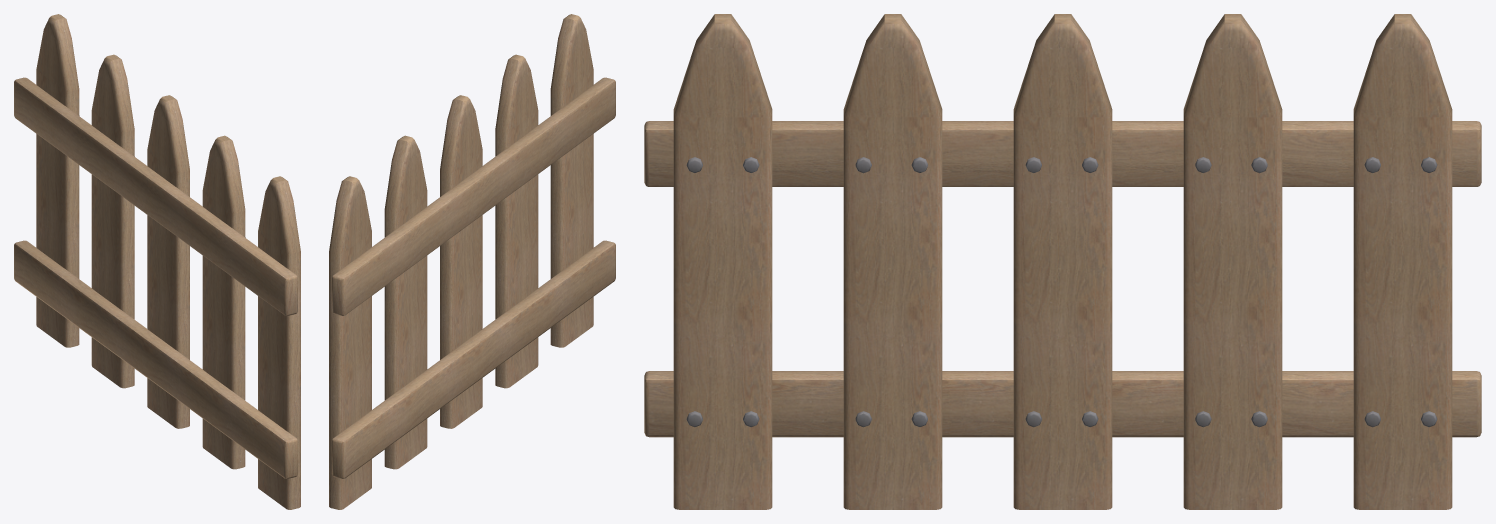
Rendered from fence.glb.
The picture shows the model from 3 angles, left to right: view 1: azimuth 30°, elevation 25°; view 2: azimuth 150°, elevation 25°; view 3: azimuth 270°, elevation 25°; orthographic projection. The views are drawn at different scales.
Visible parts, largest first — view 1: Object_2; view 2: Object_2; view 3: Object_2.
Boxes of the visible parts, box(x1,y1,x2,y2) form: Object_2: box(14, 14, 300, 509); Object_2: box(329, 14, 615, 509); Object_2: box(644, 14, 1481, 509).
Size of the model in its own units: 0.6085 by 6.34 by 9.85.
1 material, 1 textured.
